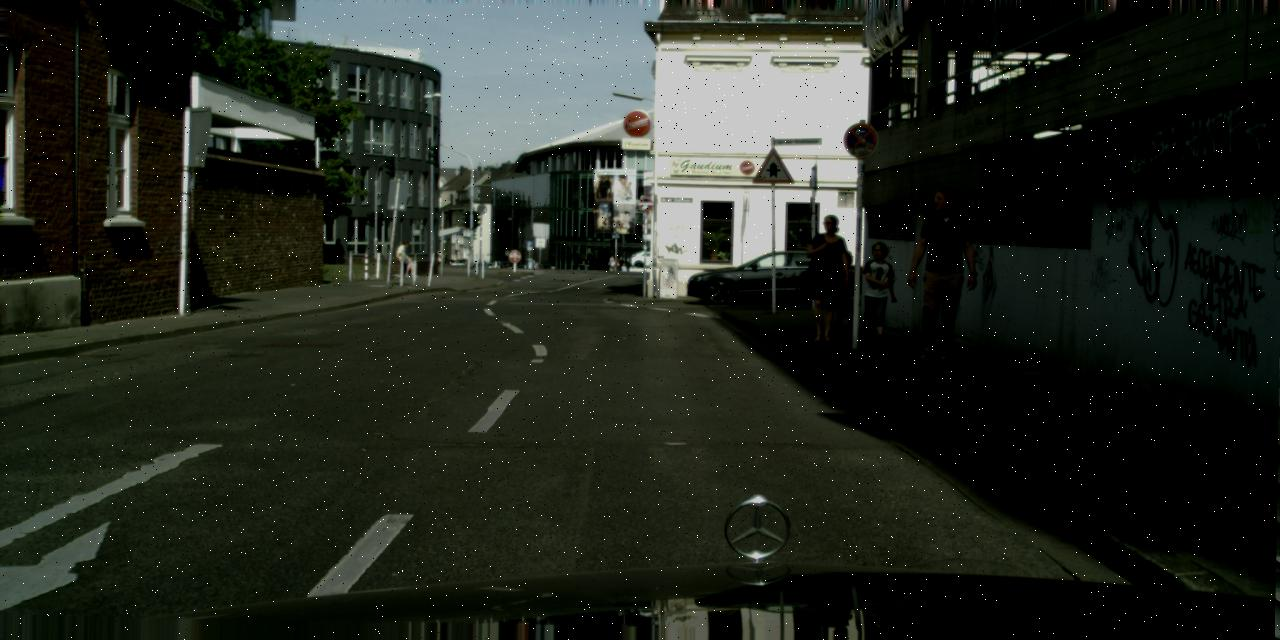ped: (904, 186, 975, 360), (801, 213, 852, 341), (856, 242, 897, 342), (828, 251, 862, 336), (394, 240, 414, 279), (331, 237, 345, 272), (618, 256, 626, 272), (608, 256, 614, 272), (582, 256, 588, 271), (416, 275, 421, 278)
